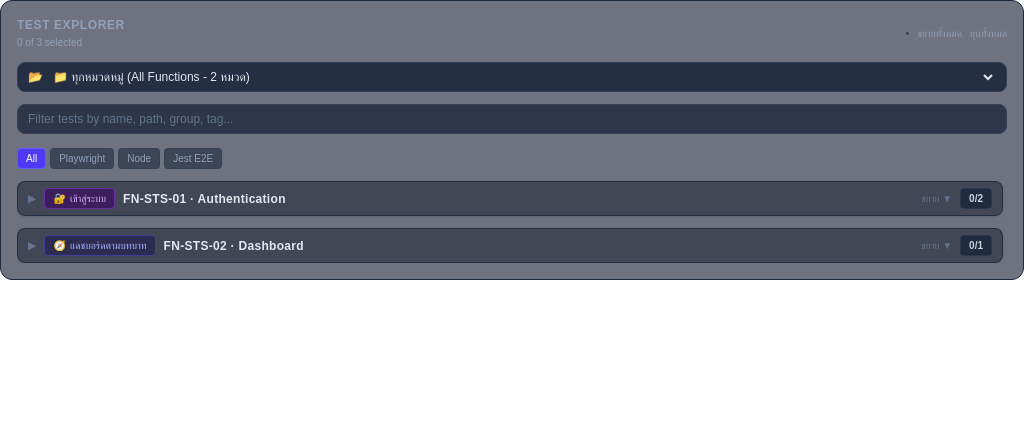
TestExplorer Component › filters test groups using the category dropdown
This screenshot has width=1024, height=427.
Select "FN-STS-01 · Authentication (2)" in the dropdown named "เลือกหมวดหมู่ฟังก์ชัน" at point(522, 77), box 49,69 -> 996,85
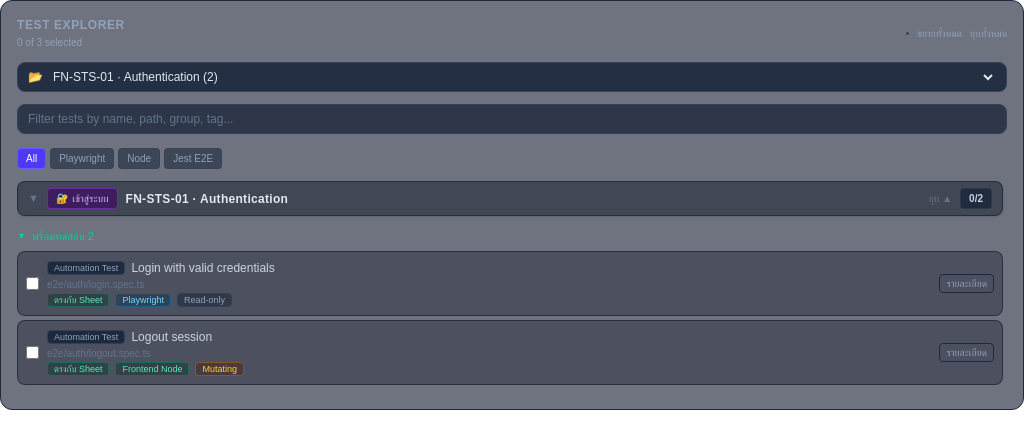
Check: the text "Login with valid credentials" is shown, box 131,260 -> 275,276
